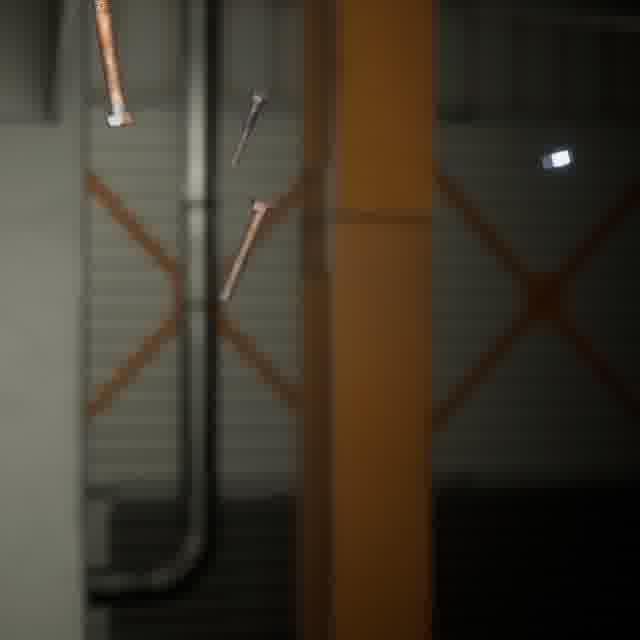bolt: (214, 191, 279, 306), (87, 0, 138, 131), (223, 86, 274, 179)
nut: (536, 145, 578, 174)
